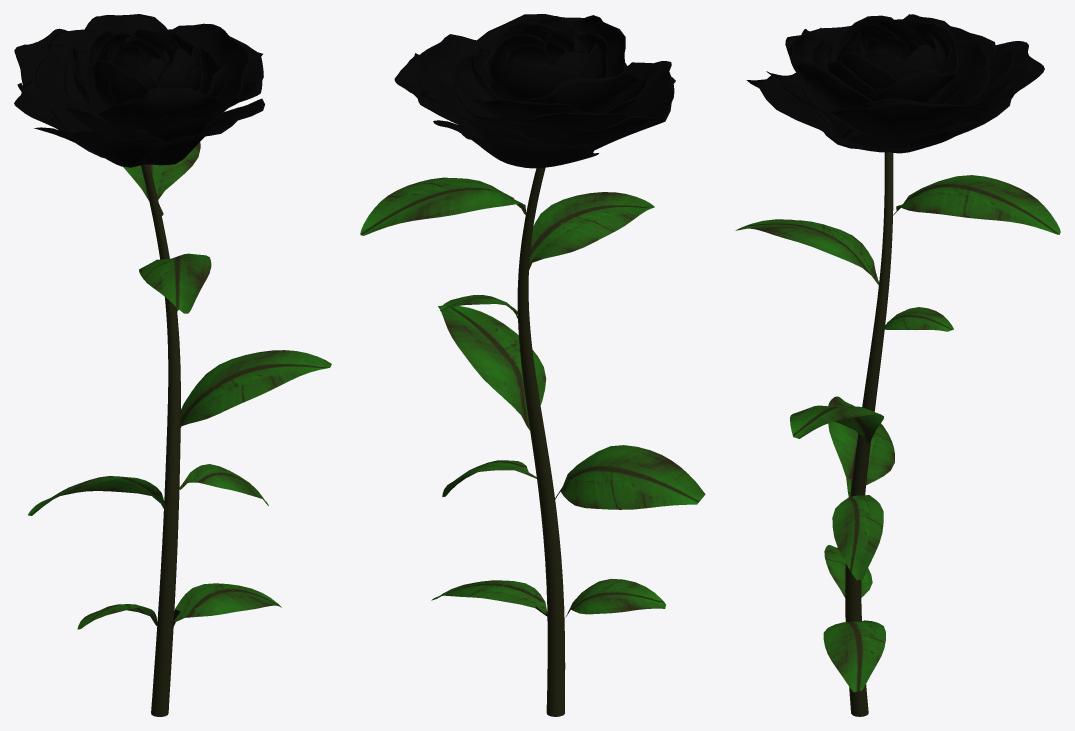
File: flower.glb
The picture shows the model from 3 angles, left to right: view 1: azimuth 30°, elevation 25°; view 2: azimuth 150°, elevation 25°; view 3: azimuth 270°, elevation 25°; orthographic projection. The views are drawn at different scales.
Parts seen in each view (by area): view 1: FLOWER; view 2: FLOWER; view 3: FLOWER.
Boxes of the visible parts, x1=… form: FLOWER: x1=14, y1=14, x2=331, y2=716; FLOWER: x1=360, y1=14, x2=705, y2=716; FLOWER: x1=735, y1=14, x2=1060, y2=716.
Bounding box in the file's own units: 0.4408 × 0.9985 × 0.4354.
Materials: 2 (2 with a texture image).
